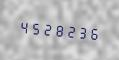eight: (53, 19, 64, 40)
five: (29, 17, 40, 38)
four: (17, 16, 28, 37)
six: (89, 22, 100, 43)
three: (77, 21, 88, 42)
two: (41, 18, 52, 39), (65, 20, 76, 41)
